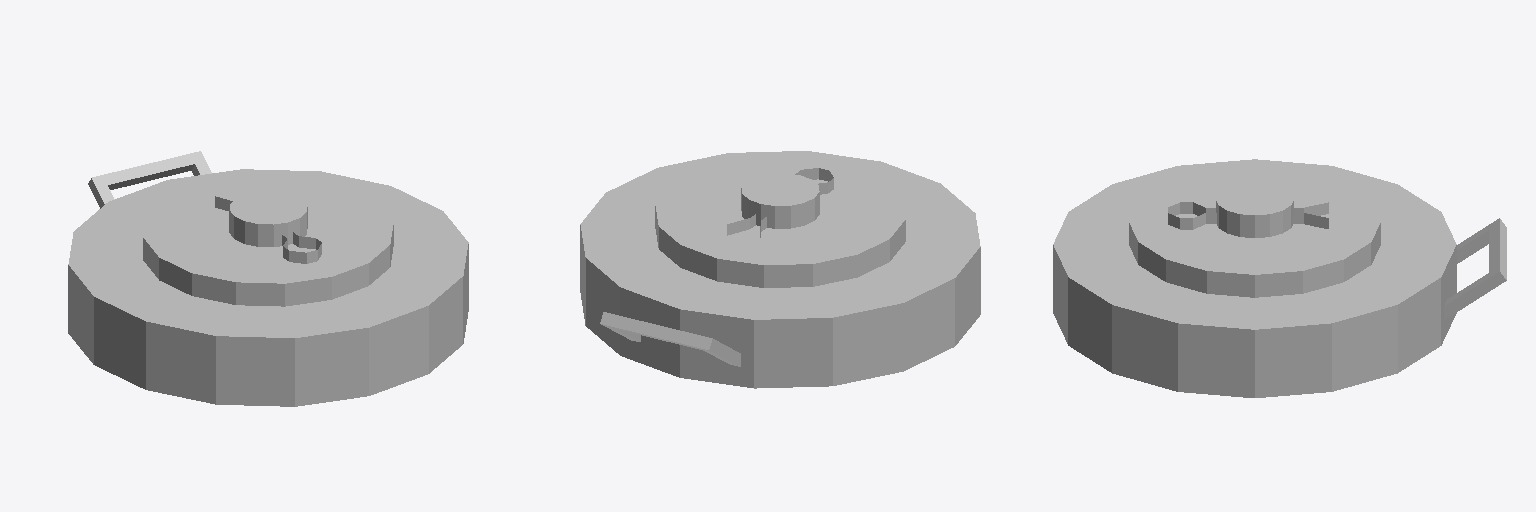
The model's file is mine_he.obj.
3 views of the same model, side by side, from view 1: azimuth 30°, elevation 25°; view 2: azimuth 150°, elevation 25°; view 3: azimuth 270°, elevation 25° (orthographic).
Parts seen in each view (by area): view 1: Circle; view 2: Circle; view 3: Circle.
Boxes of the visible parts, <box> form: Circle: <box>68,151,468,406</box>; Circle: <box>580,151,980,388</box>; Circle: <box>1053,159,1506,397</box>.
Size of the model in its own units: 0.5 by 0.1562 by 0.5621.